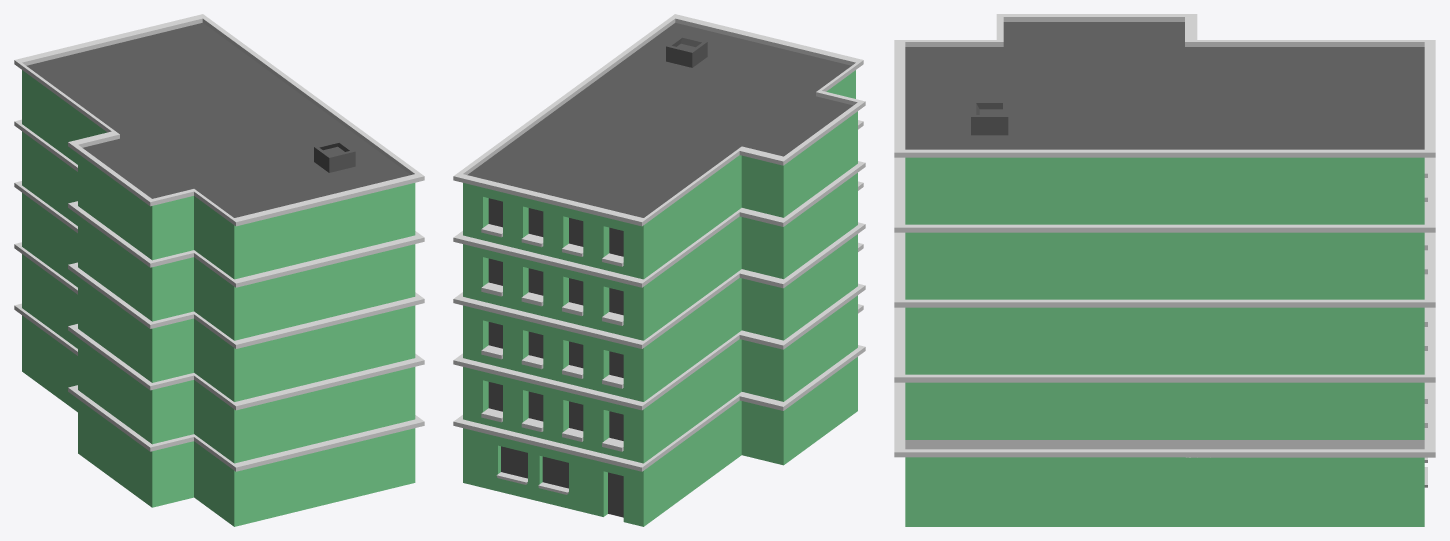
The model's file is condo.fbx.
3 views of the same model, side by side, from view 1: azimuth 30°, elevation 25°; view 2: azimuth 150°, elevation 25°; view 3: azimuth 270°, elevation 25° (orthographic). The views are drawn at different scales.
Visible parts, largest first — view 1: condo; view 2: condo; view 3: condo.
Boxes of the visible parts, bbox=[...] form: condo: bbox=[14, 14, 424, 526]; condo: bbox=[453, 14, 865, 526]; condo: bbox=[894, 14, 1435, 526].
Bounding box in the file's own units: 126 × 166 × 209.
